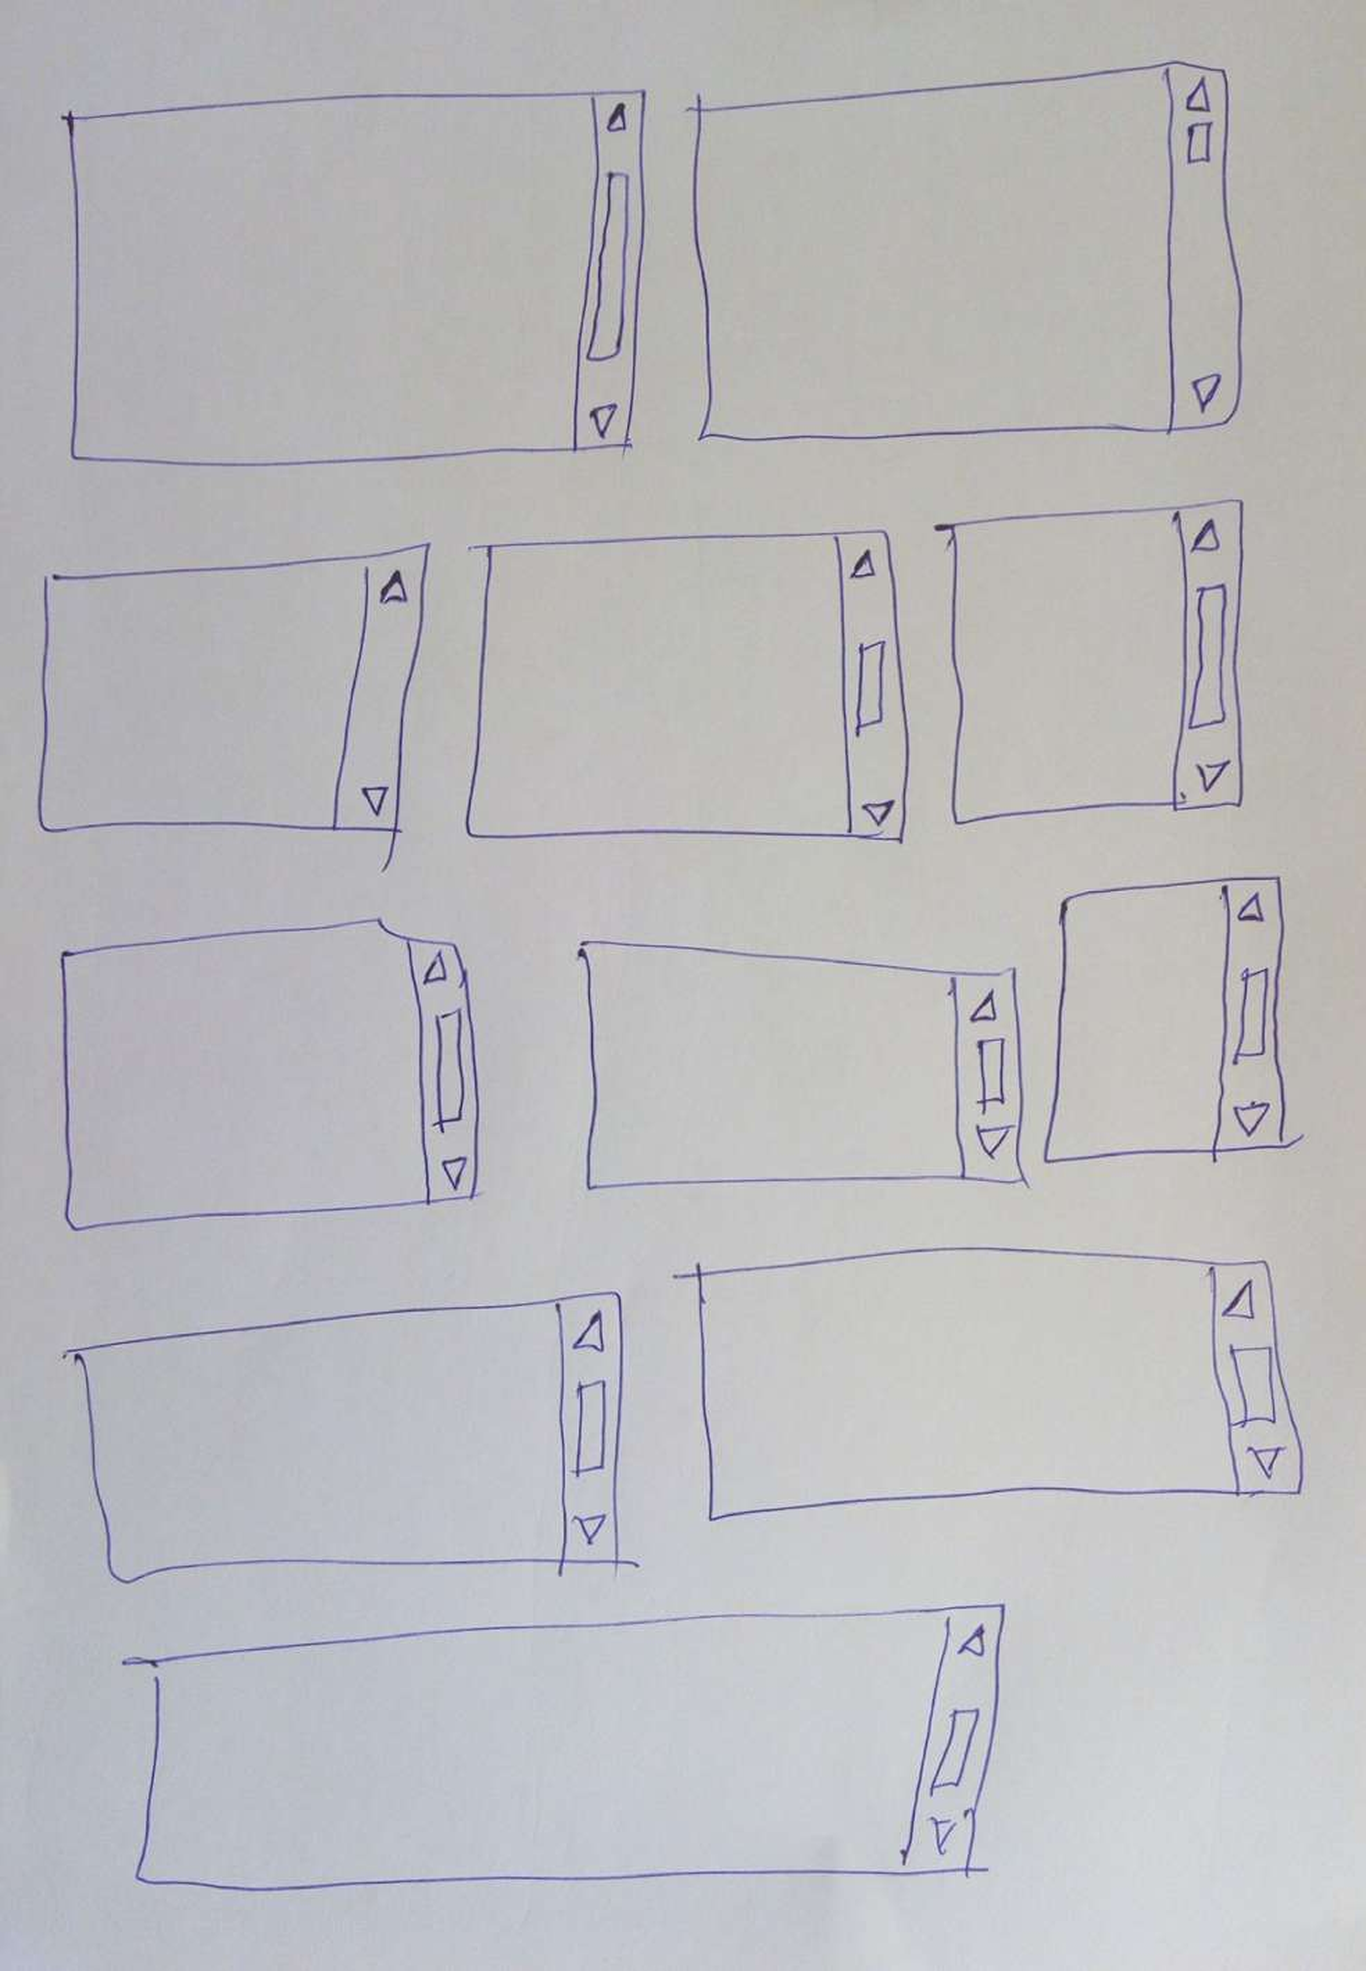Textarea: (121, 1603, 1005, 1892), (61, 88, 646, 467), (686, 60, 1243, 440), (61, 1291, 646, 1589), (673, 1248, 1305, 1522), (464, 529, 909, 845), (60, 918, 485, 1231), (37, 542, 431, 873), (577, 941, 1030, 1191), (935, 499, 1245, 825), (1044, 876, 1305, 1164)
